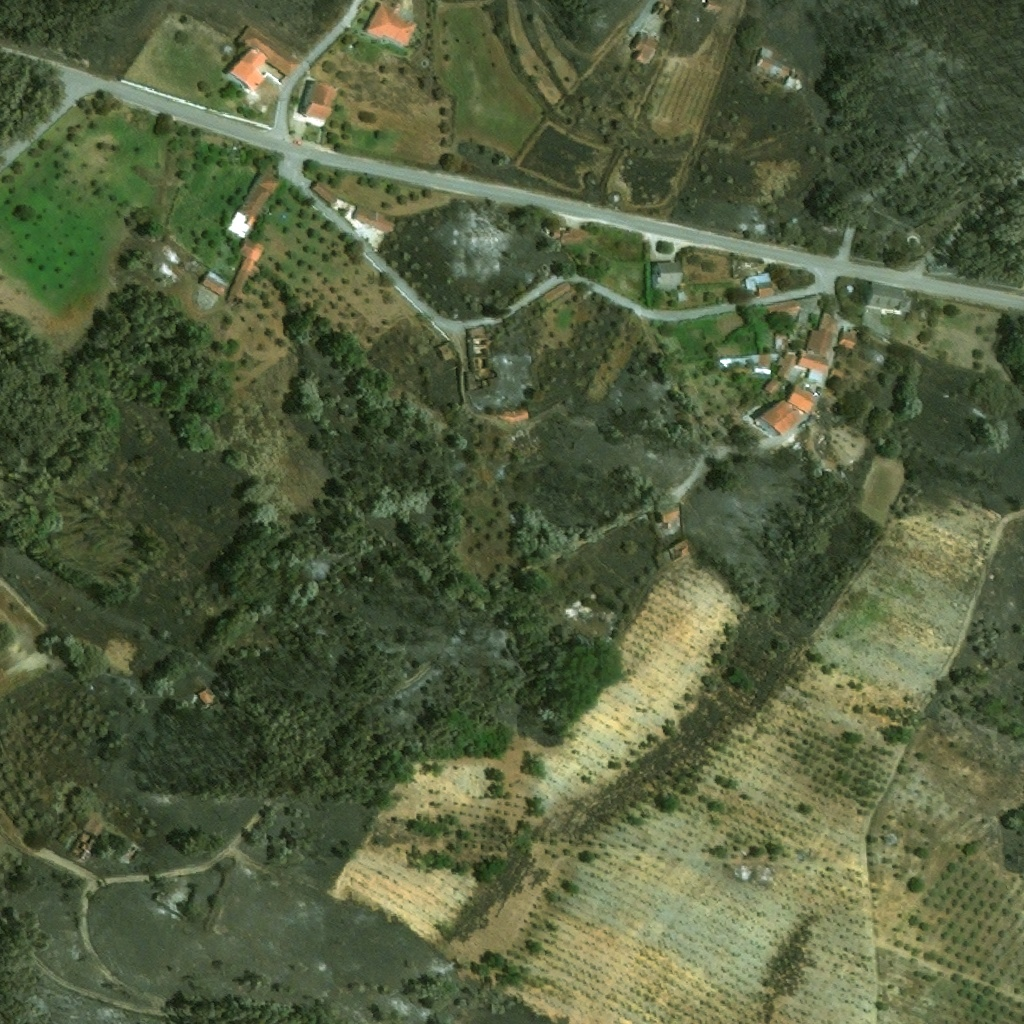0 no-damage: (228, 171, 280, 239), (236, 25, 301, 76), (861, 282, 912, 345), (364, 3, 417, 46), (298, 80, 340, 123), (769, 294, 820, 324), (229, 49, 265, 90), (806, 313, 839, 357), (761, 400, 803, 432), (353, 206, 396, 236), (757, 47, 788, 79), (798, 352, 829, 382), (630, 32, 656, 63), (789, 386, 817, 413), (200, 271, 229, 297), (657, 263, 686, 289), (744, 272, 773, 298), (778, 354, 802, 382), (541, 282, 571, 303), (561, 228, 589, 247), (840, 329, 866, 349), (718, 354, 757, 367), (312, 183, 335, 204), (754, 356, 771, 374), (763, 378, 780, 392), (774, 333, 788, 348), (676, 292, 688, 303), (793, 340, 802, 351), (800, 332, 808, 340)
1 minor-damage: (226, 240, 265, 307), (502, 407, 529, 426), (669, 539, 693, 560), (197, 689, 221, 709), (437, 342, 457, 361), (660, 506, 680, 522), (554, 230, 560, 239)
3 destroyed: (153, 875, 194, 917), (70, 819, 106, 862), (469, 327, 495, 375), (730, 255, 742, 277), (785, 75, 801, 90), (128, 844, 143, 860), (515, 426, 531, 439), (164, 247, 173, 254), (231, 304, 236, 309), (230, 266, 235, 271)
4 un-classified: (652, 0, 679, 22), (706, 1, 723, 11)
